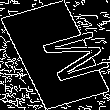M_W: (13, 24, 97, 86)
